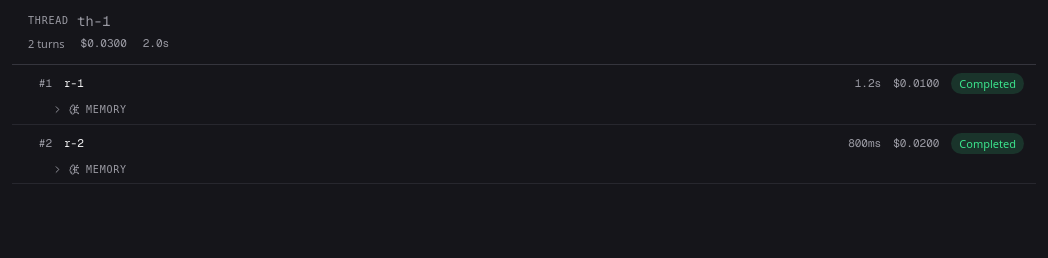
Test: ThreadDetail › incomingDedupedByShape is a NEUTRAL note — it can cost a turn count, never content
The image size is (1048, 258).
Click the button "memory" below "1.2s" at (106, 110), box [12,102,1036,124]
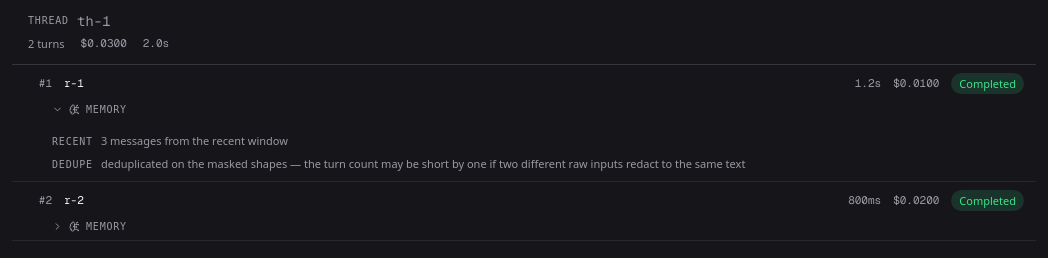
Expected: the text "deduplicated on the masked shapes" is shown, [101,156,745,171]
Expected: the text "dedupe" is shown, [52,157,93,173]
